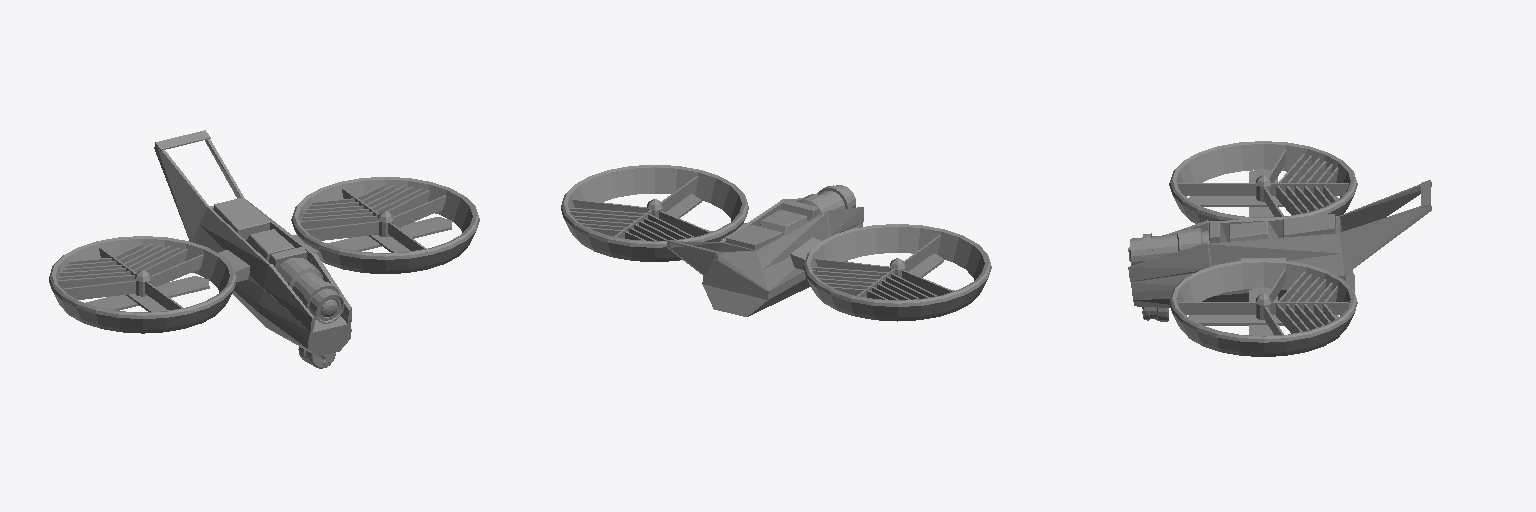
File: BomberDrone.obj
The picture shows the model from 3 angles: view 1: azimuth 30°, elevation 25°; view 2: azimuth 150°, elevation 25°; view 3: azimuth 270°, elevation 25°; orthographic projection.
Parts seen in each view (by area): view 1: SK_BomberDrone; view 2: SK_BomberDrone; view 3: SK_BomberDrone.
Part boxes in pixels (bbox=[...]): SK_BomberDrone: bbox=[49, 130, 479, 368]; SK_BomberDrone: bbox=[561, 165, 991, 321]; SK_BomberDrone: bbox=[1128, 141, 1431, 356].
Bounding box in the file's own units: 81.97 × 24.84 × 53.08.